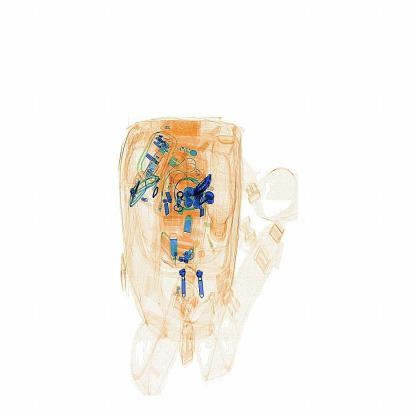knife: (192, 167, 223, 208)
